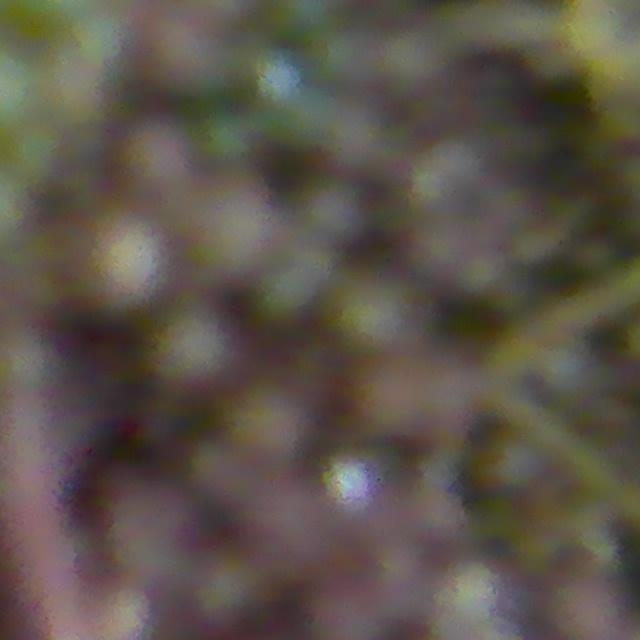SeaGrape: (60, 201, 161, 314), (232, 495, 336, 580), (138, 308, 227, 398), (192, 194, 277, 283), (220, 382, 307, 468), (140, 13, 221, 102), (335, 276, 419, 357), (108, 130, 186, 207), (347, 362, 421, 437), (325, 573, 406, 640), (544, 573, 618, 640), (301, 178, 370, 247), (425, 365, 486, 429)
